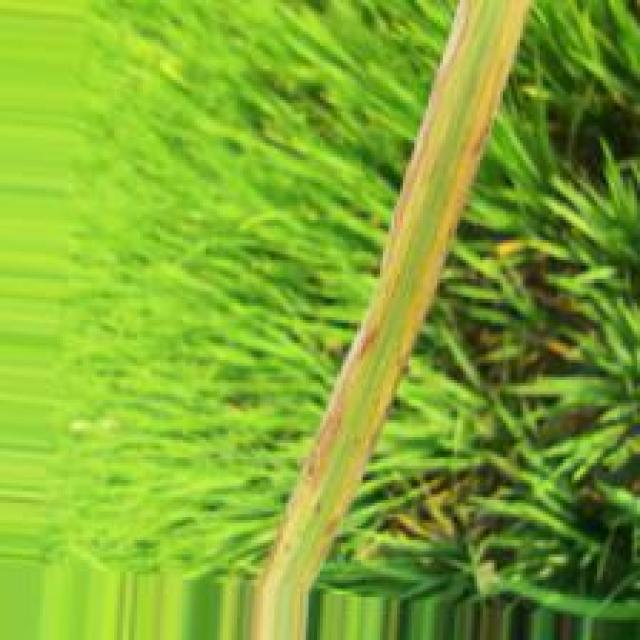Narrow_Brown_Leaf_Spot: (332, 0, 534, 525), (295, 2, 477, 497)
